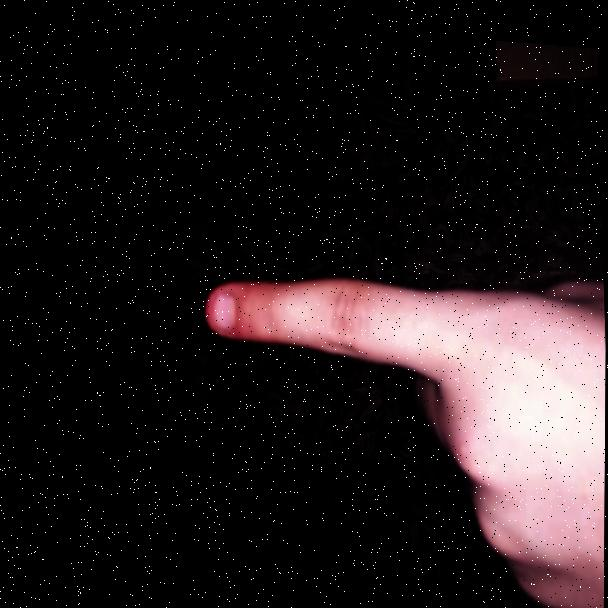one: (190, 232, 607, 601)
